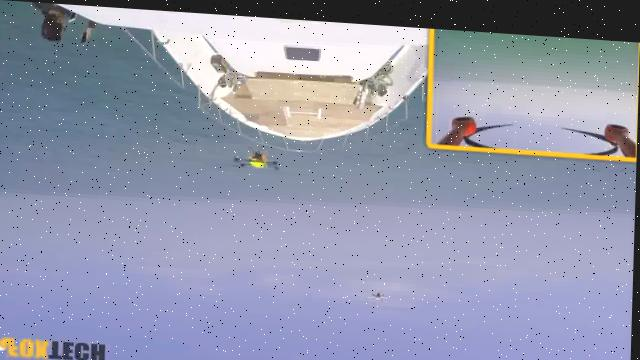drone: (235, 144, 286, 176), (367, 279, 396, 314)
